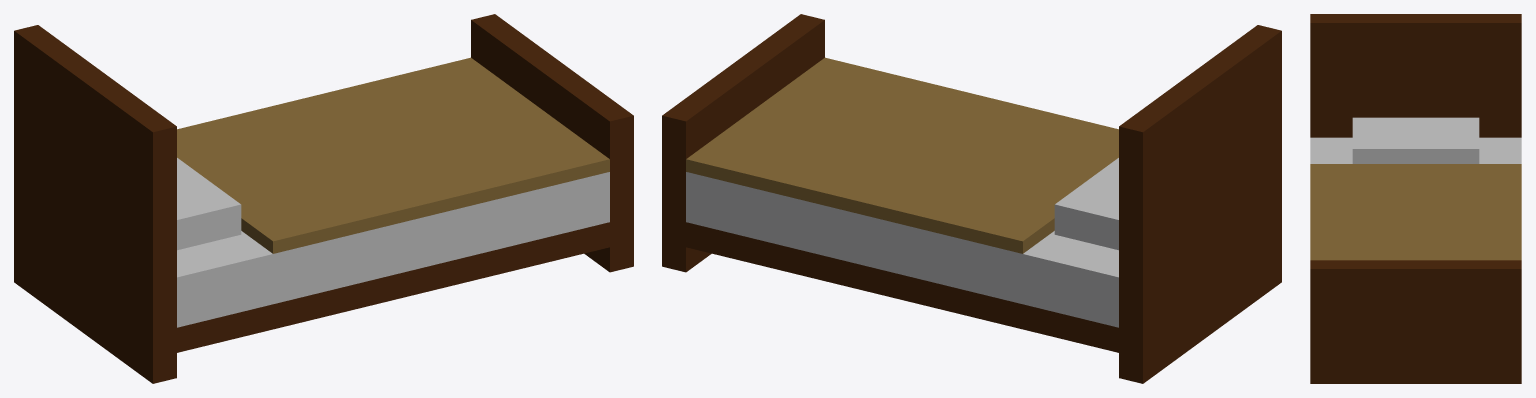
The model's file is bed.glb.
3 views of the same model, side by side, from view 1: azimuth 30°, elevation 25°; view 2: azimuth 150°, elevation 25°; view 3: azimuth 270°, elevation 25° (orthographic). The views are drawn at different scales.
Parts seen in each view (by area): view 1: bedendx+; view 2: bedendx+; view 3: bedendx+.
Boxes of the visible parts, left/top/right/bottom form: bedendx+: left=14, top=14, right=633, bottom=383; bedendx+: left=662, top=14, right=1281, bottom=383; bedendx+: left=1310, top=14, right=1521, bottom=383.
Bounding box in the file's own units: 2 × 1 × 1.
